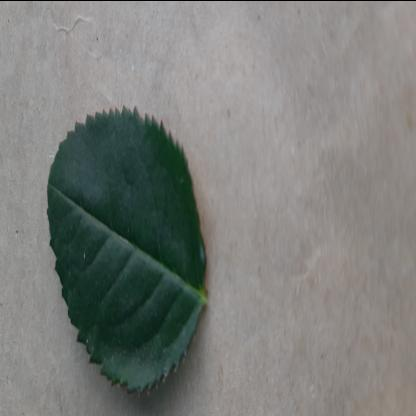normal: (46, 96, 210, 392)
